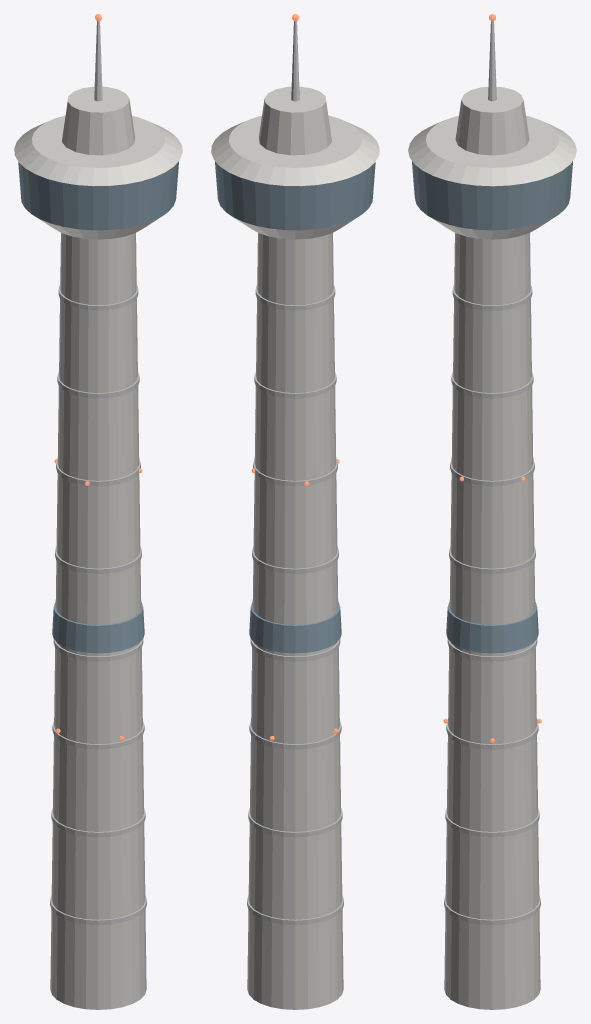
File: beacon.glb
3 renders of one model, left to right at view 1: azimuth 30°, elevation 25°; view 2: azimuth 150°, elevation 25°; view 3: azimuth 270°, elevation 25°, orthographic.
Parts seen in each view (by area): view 1: beacon; view 2: beacon; view 3: beacon.
Boxes of the visible parts, x1=… form: beacon: x1=14, y1=14, x2=182, y2=1009; beacon: x1=211, y1=14, x2=379, y2=1009; beacon: x1=408, y1=14, x2=576, y2=1009.
Bounding box in the file's own units: 22.8 × 145 × 22.8.
